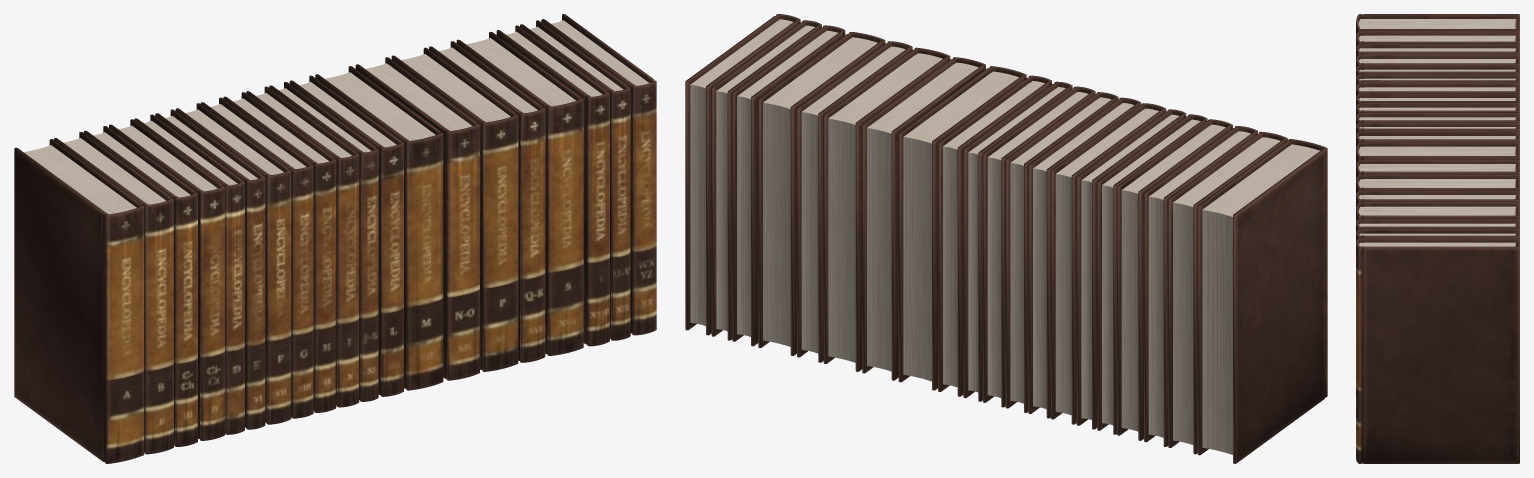
The model's file is book_encyclopedia_set_01.glb.
3 views of the same model, side by side, from view 1: azimuth 30°, elevation 25°; view 2: azimuth 150°, elevation 25°; view 3: azimuth 270°, elevation 25° (orthographic). The views are drawn at different scales.
Parts seen in each view (by area): view 1: book_encyclopedia_set_01_book01, book_encyclopedia_set_01_book13, book_encyclopedia_set_01_book15, book_encyclopedia_set_01_book17, book_encyclopedia_set_01_book14, book_encyclopedia_set_01_book02, book_encyclopedia_set_01_book16, book_encyclopedia_set_01_book04, book_encyclopedia_set_01_book18, book_encyclopedia_set_01_book20, book_encyclopedia_set_01_book07, book_encyclopedia_set_01_book12 (+8 smaller); view 2: book_encyclopedia_set_01_book01, book_encyclopedia_set_01_book13, book_encyclopedia_set_01_book15, book_encyclopedia_set_01_book17, book_encyclopedia_set_01_book14, book_encyclopedia_set_01_book02, book_encyclopedia_set_01_book04, book_encyclopedia_set_01_book16, book_encyclopedia_set_01_book18, book_encyclopedia_set_01_book20, book_encyclopedia_set_01_book07, book_encyclopedia_set_01_book12 (+8 smaller); view 3: book_encyclopedia_set_01_book20, book_encyclopedia_set_01_book13, book_encyclopedia_set_01_book17, book_encyclopedia_set_01_book01, book_encyclopedia_set_01_book15, book_encyclopedia_set_01_book14, book_encyclopedia_set_01_book02, book_encyclopedia_set_01_book16, book_encyclopedia_set_01_book03, book_encyclopedia_set_01_book12, book_encyclopedia_set_01_book07, book_encyclopedia_set_01_book04 (+8 smaller).
Part boxes in pixels (<box>): book_encyclopedia_set_01_book01: <box>14,139,144,463</box>; book_encyclopedia_set_01_book13: <box>315,66,443,390</box>; book_encyclopedia_set_01_book15: <box>391,47,518,371</box>; book_encyclopedia_set_01_book17: <box>456,31,583,355</box>; book_encyclopedia_set_01_book14: <box>355,57,479,380</box>; book_encyclopedia_set_01_book02: <box>54,132,173,454</box>; book_encyclopedia_set_01_book16: <box>429,41,545,362</box>; book_encyclopedia_set_01_book04: <box>109,119,224,440</box>; book_encyclopedia_set_01_book18: <box>496,25,609,346</box>; book_encyclopedia_set_01_book20: <box>541,14,656,335</box>; book_encyclopedia_set_01_book07: <box>175,103,291,424</box>; book_encyclopedia_set_01_book12: <box>289,75,403,396</box>; book_encyclopedia_set_01_book01: <box>1197,139,1327,463</box>; book_encyclopedia_set_01_book13: <box>898,66,1026,390</box>; book_encyclopedia_set_01_book15: <box>823,47,950,371</box>; book_encyclopedia_set_01_book17: <box>758,32,885,355</box>; book_encyclopedia_set_01_book14: <box>862,57,985,380</box>; book_encyclopedia_set_01_book02: <box>1168,131,1287,454</box>; book_encyclopedia_set_01_book04: <box>1117,119,1232,440</box>; book_encyclopedia_set_01_book16: <box>797,41,912,362</box>; book_encyclopedia_set_01_book18: <box>732,25,845,346</box>; book_encyclopedia_set_01_book20: <box>685,14,800,335</box>; book_encyclopedia_set_01_book07: <box>1051,103,1166,424</box>; book_encyclopedia_set_01_book12: <box>938,75,1051,396</box>; book_encyclopedia_set_01_book20: <box>1356,238,1519,463</box>; book_encyclopedia_set_01_book13: <box>1356,142,1519,165</box>; book_encyclopedia_set_01_book17: <box>1356,202,1519,222</box>; book_encyclopedia_set_01_book01: <box>1356,14,1519,35</box>; book_encyclopedia_set_01_book15: <box>1356,174,1519,194</box>; book_encyclopedia_set_01_book14: <box>1356,159,1519,181</box>; book_encyclopedia_set_01_book02: <box>1356,30,1519,47</box>; book_encyclopedia_set_01_book16: <box>1356,190,1519,208</box>; book_encyclopedia_set_01_book03: <box>1356,43,1519,58</box>; book_encyclopedia_set_01_book12: <box>1356,131,1519,163</box>; book_encyclopedia_set_01_book07: <box>1356,82,1519,97</box>; book_encyclopedia_set_01_book04: <box>1356,54,1519,68</box>.
Size of the model in its own units: 0.5513 by 0.2374 by 0.1631.
Materials: 2 (2 with a texture image).
